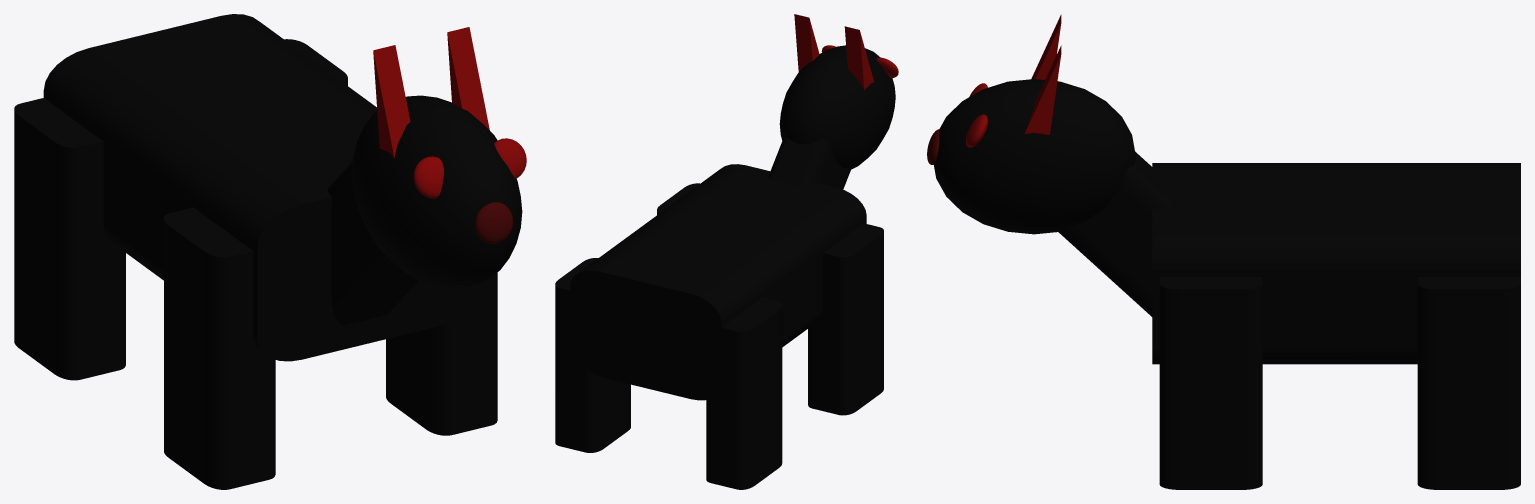
The model's file is Hound.fbx.
3 renders of one model, left to right at view 1: azimuth 30°, elevation 25°; view 2: azimuth 150°, elevation 25°; view 3: azimuth 270°, elevation 25°, orthographic. The views are drawn at different scales.
Visible parts, largest first — view 1: mergedBlocks; view 2: mergedBlocks; view 3: mergedBlocks.
Part boxes in pixels (x1=…): mergedBlocks: x1=14, y1=14, x2=526, y2=489; mergedBlocks: x1=555, y1=14, x2=898, y2=489; mergedBlocks: x1=927, y1=14, x2=1520, y2=489.
Bounding box in the file's own units: 7.8 × 11.86 × 16.1.
